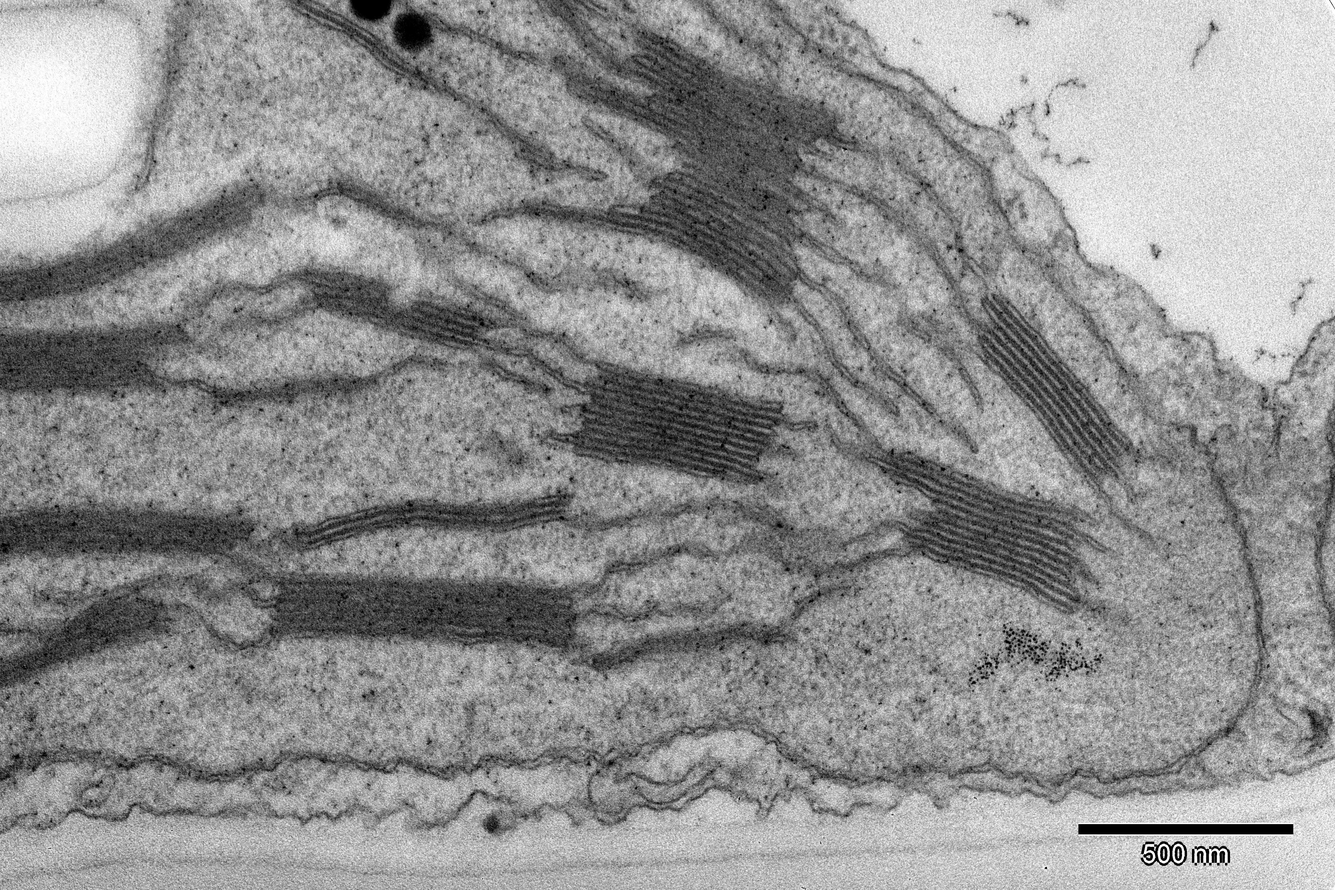granum: (564, 25, 843, 327), (0, 165, 274, 304), (965, 288, 1140, 489), (884, 449, 1083, 616), (570, 358, 785, 486), (268, 569, 580, 654), (0, 501, 258, 571), (307, 262, 492, 354), (294, 492, 575, 552), (1, 319, 171, 404)
